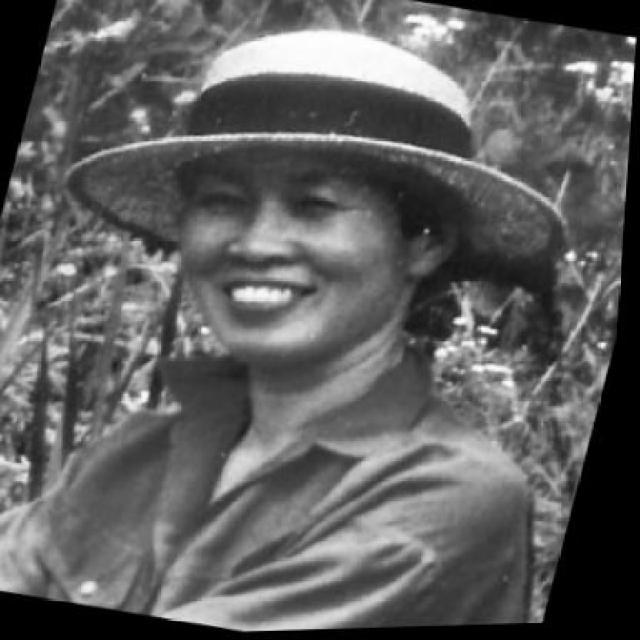hat: (61, 31, 569, 287)
